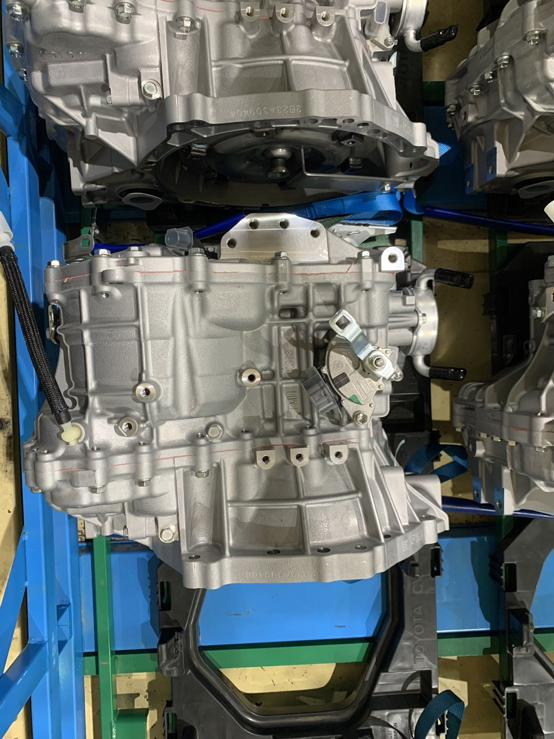gearbox_type1: (23, 215, 454, 585)
gearbox_type1_FP1: (322, 438, 353, 467)
gearbox_type1_FP2: (285, 442, 310, 467)
gearbox_type1_FP3: (374, 243, 408, 274)
